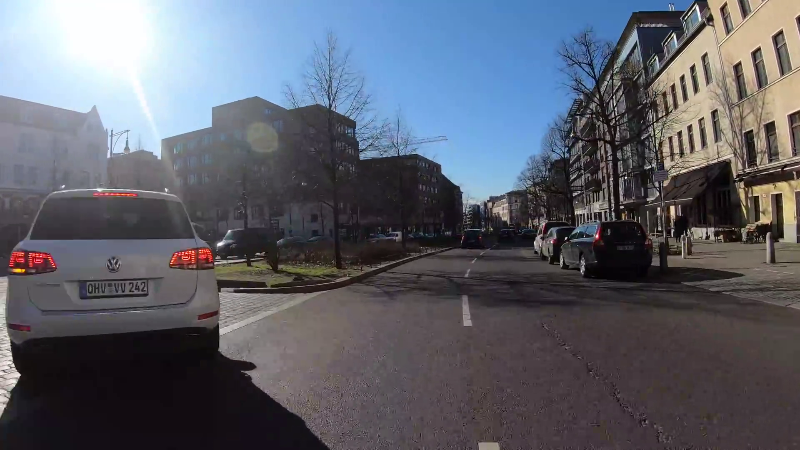Plate: (78, 277, 151, 297), (615, 243, 635, 250)
